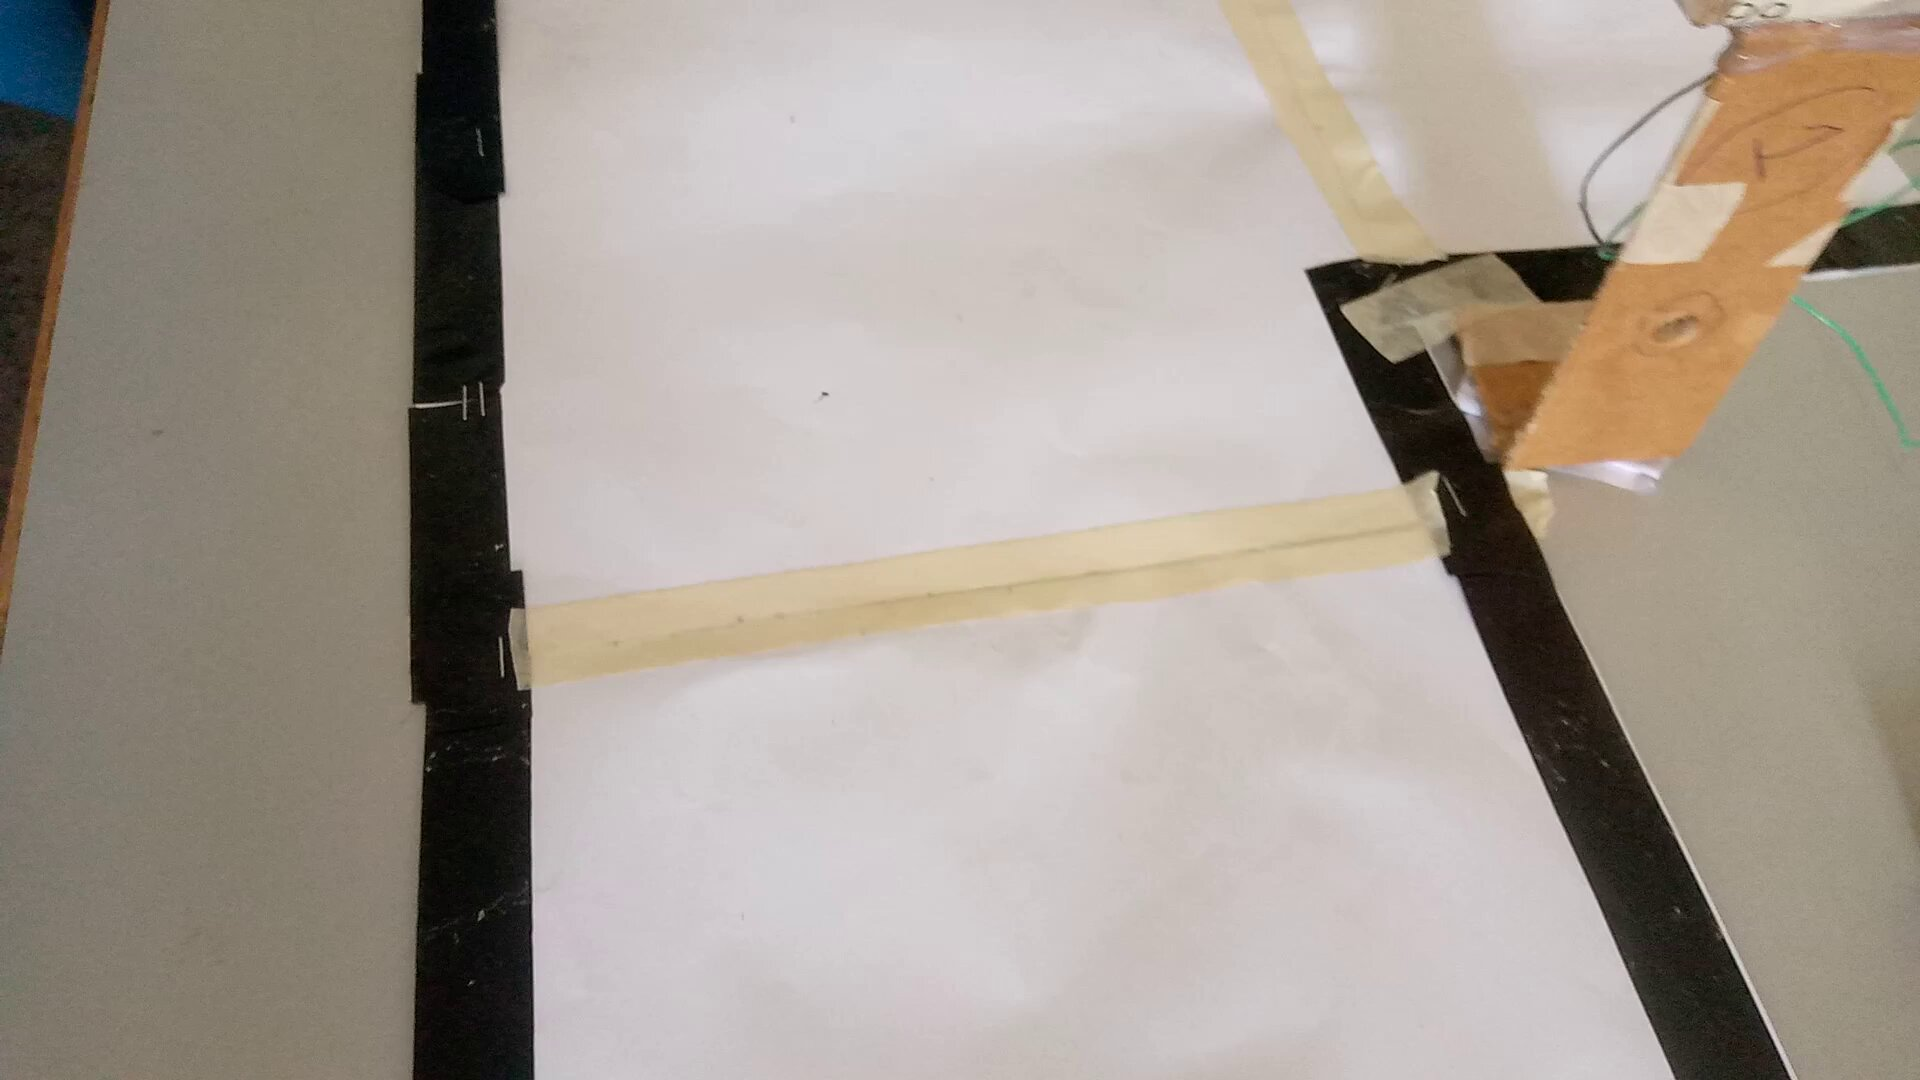right: (378, 5, 1455, 389)
